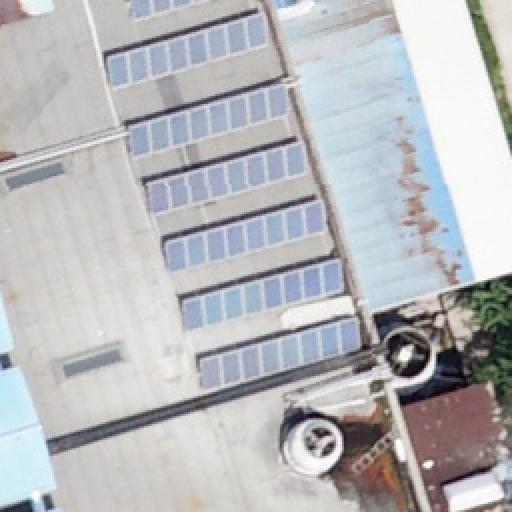solar-panel: (107, 10, 269, 90), (130, 82, 286, 162), (147, 142, 309, 218), (202, 312, 362, 388), (185, 256, 343, 332), (163, 200, 325, 272), (131, 0, 205, 20)
